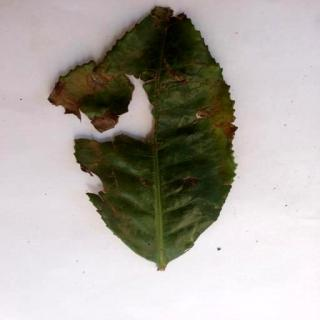Algal Leaf: (56, 7, 239, 277)
